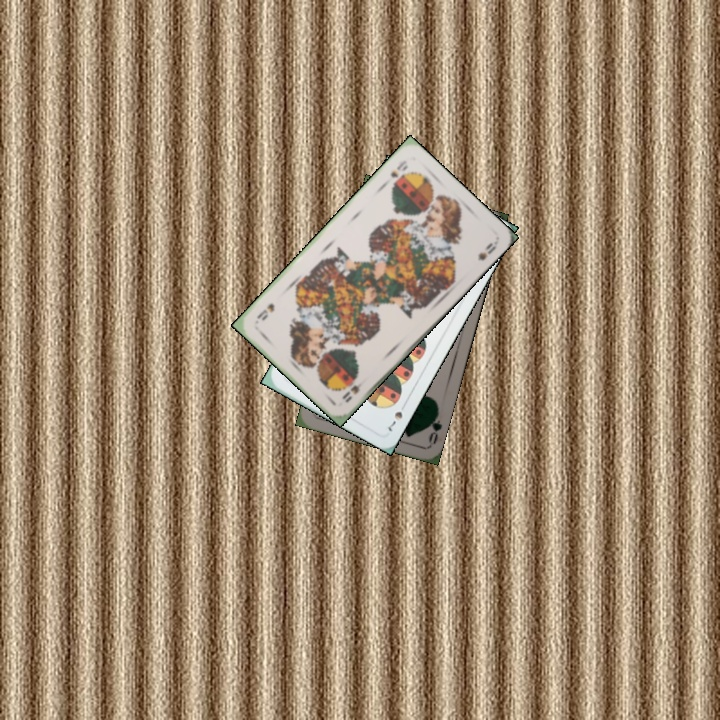GO: (423, 406, 444, 447)
S7: (384, 398, 409, 434)
SO: (338, 374, 369, 405), (380, 156, 410, 187)
